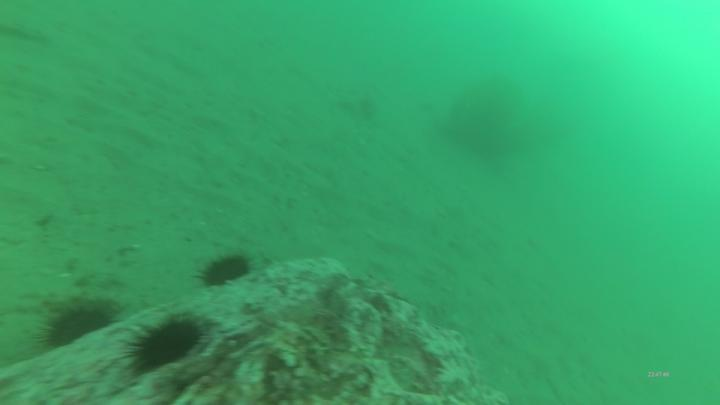echinus: (116, 315, 205, 380), (33, 304, 114, 354), (196, 254, 251, 294)
